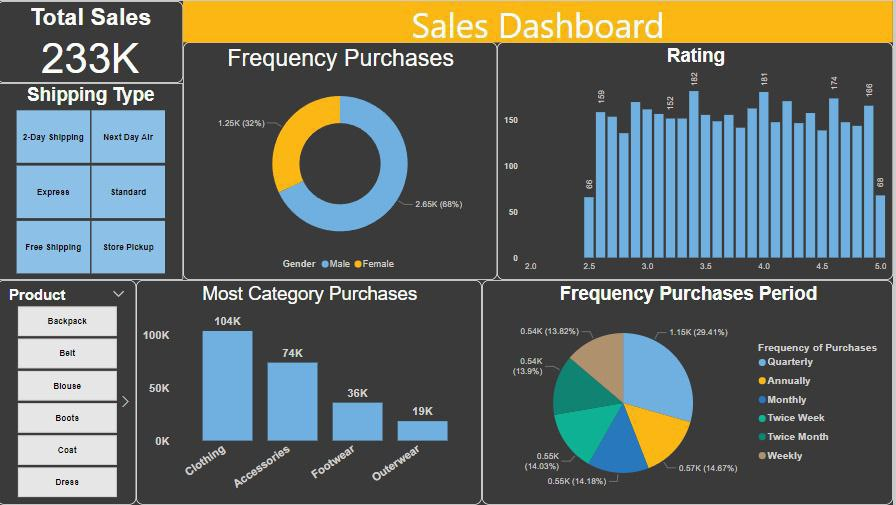

The page's visual inventory and layout, read from the dashboard file:
{"tool":"powerbi","page":{"name":"Dashboard","canvas":[1280,720],"ordinal":0},"visuals":[{"type":"card","title":"Total Sales","fields":{"Values":["Sum(shopping_trends.Purchase Amount (USD))"]},"box":[0,0,265.7,117.1],"z":0},{"type":"donutChart","title":"Frequency Purchases ","fields":{"Category":["shopping_trends.Gender"],"Y":["CountNonNull(shopping_trends.Frequency of Purchases)"]},"box":[265.7,58.6,448.6,340],"z":1000},{"type":"columnChart","title":"Most Category Purchases","fields":{"Category":["shopping_trends.Category"],"Y":["Sum(shopping_trends.Purchase Amount (USD))"]},"box":[198.6,398.6,494.3,321.4],"z":2000},{"type":"slicer","fields":{"Values":["shopping_trends.Item Purchased"]},"box":[0,398.6,198.6,321.4],"z":3000},{"type":"pieChart","title":" Frequency Purchases Period","fields":{"Category":["shopping_trends.Frequency of Purchases"],"Y":["CountNonNull(shopping_trends.Item Purchased)"]},"box":[692.9,398.6,587.1,321.4],"z":4000},{"type":"columnChart","title":"Rating","fields":{"Category":["shopping_trends.Review Rating"],"Y":["CountNonNull(shopping_trends.Category)"]},"box":[714.3,58.6,565.7,340],"z":5000},{"type":"textbox","title":"Sales Dashboard","box":[265.7,0,1014.3,58.6],"z":6000},{"type":"slicer","title":"Shipping Type","fields":{"Values":["shopping_trends.Shipping Type"]},"box":[0,117.1,265.7,281.4],"z":7000}]}

Visuals, with their boxes in screenshot pixels (x1, y1, x2, y2), scaled from the page's 1280x720 canvas onto the 896x505 screenshot:
"Total Sales" card: region(0, 0, 186, 82)
"Frequency Purchases " donutChart: region(186, 41, 500, 280)
"Most Category Purchases" columnChart: region(139, 280, 485, 504)
slicer - shopping_trends.Item Purchased: region(0, 280, 139, 504)
" Frequency Purchases Period" pieChart: region(485, 280, 895, 504)
"Rating" columnChart: region(500, 41, 895, 280)
"Sales Dashboard" textbox: region(186, 0, 895, 41)
"Shipping Type" slicer: region(0, 82, 186, 280)
